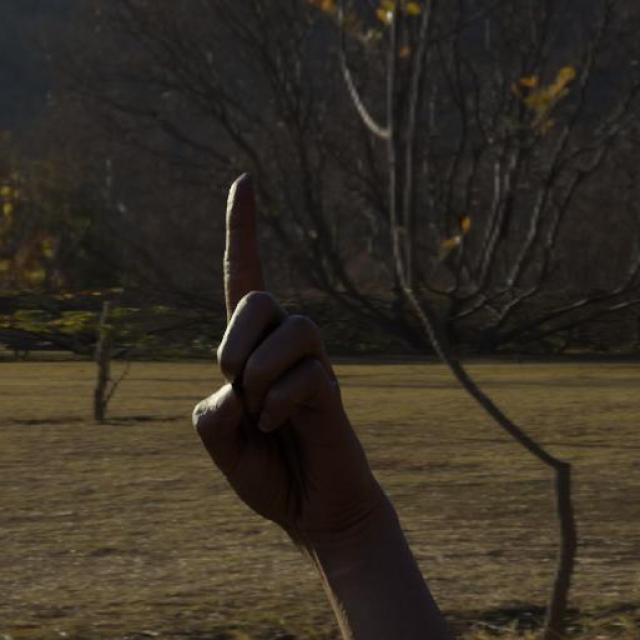D: (190, 165, 401, 549)
